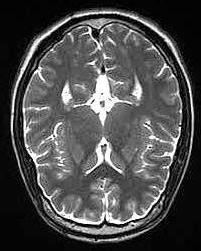Normal_Brain: (4, 5, 201, 251)
